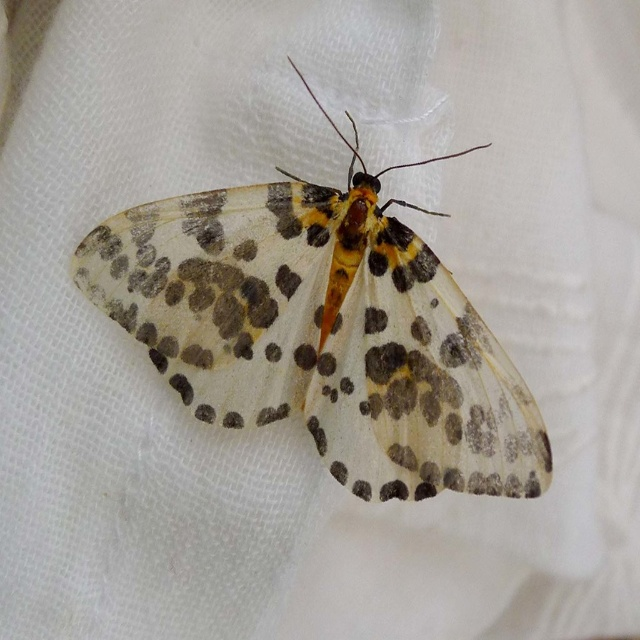Butterfly: (74, 62, 546, 513)
